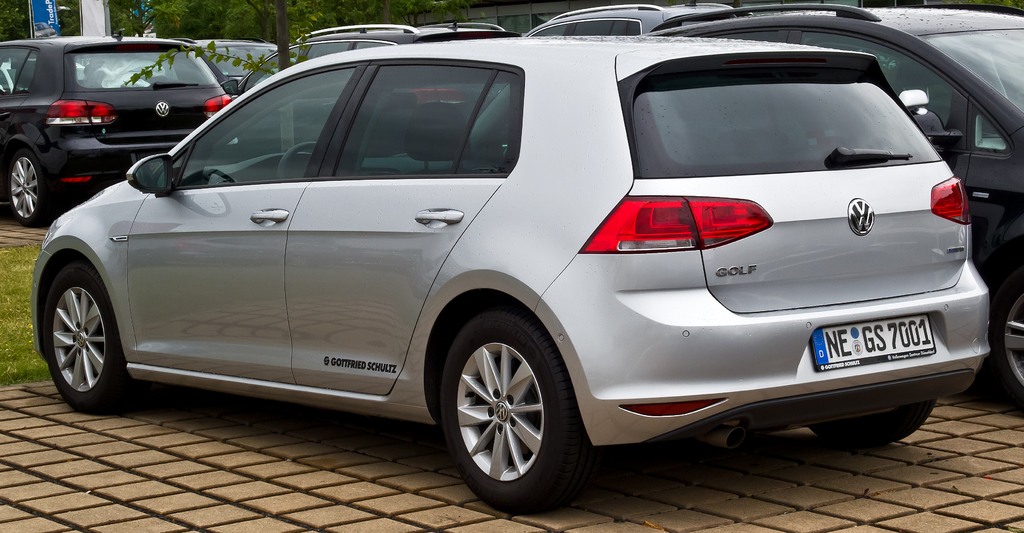license plate: (810, 325, 942, 368)
